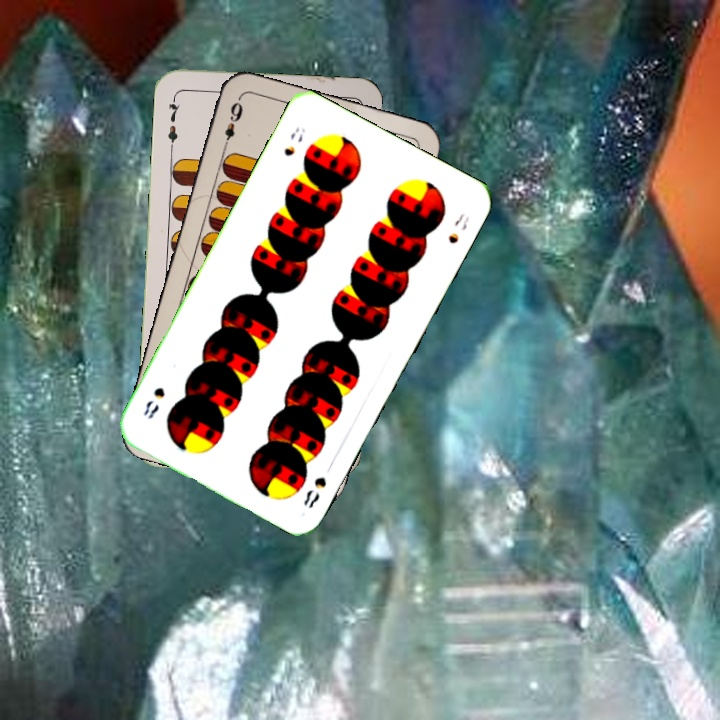E7: (163, 93, 182, 152)
E9: (218, 98, 246, 153)
S8: (299, 472, 330, 511), (280, 124, 308, 159)
